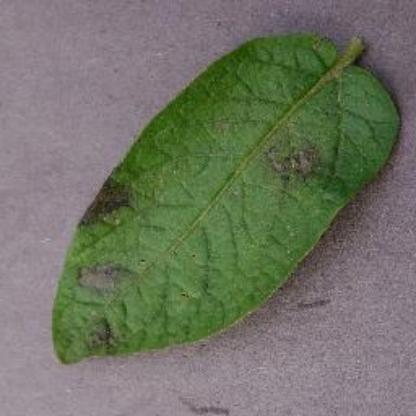Late-Blight: (50, 25, 402, 367)
